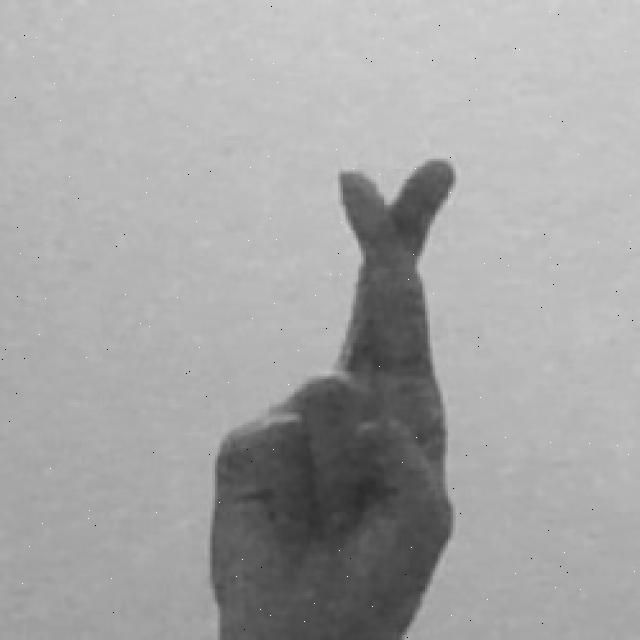R: (204, 152, 465, 640)
